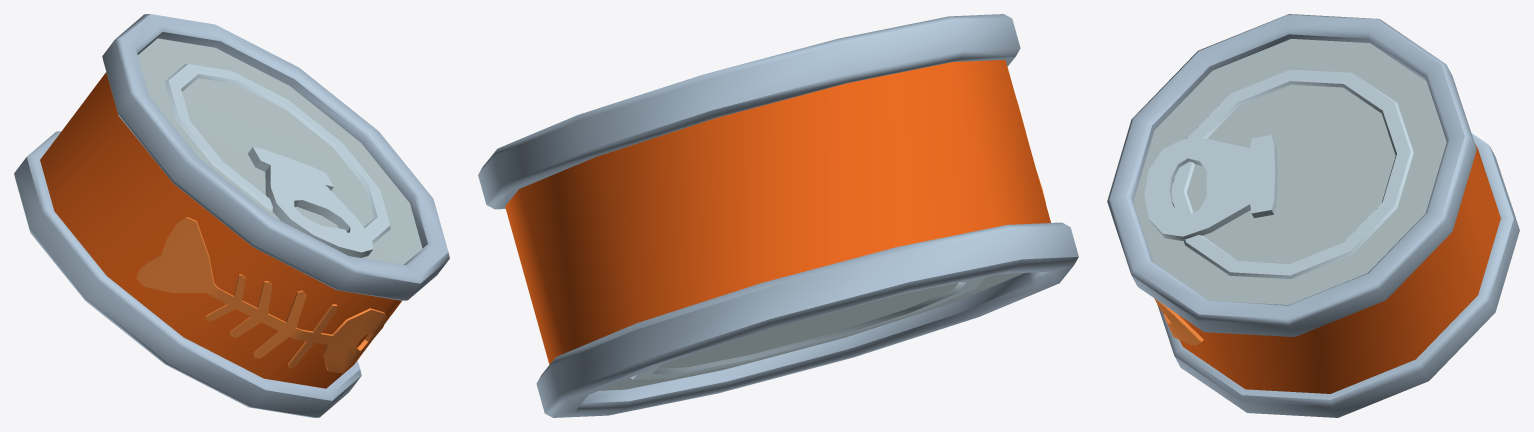
3 renders of one model, left to right at view 1: azimuth 30°, elevation 25°; view 2: azimuth 150°, elevation 25°; view 3: azimuth 270°, elevation 25°, orthographic. The views are drawn at different scales.
Parts seen in each view (by area): view 1: model_0.057; view 2: model_0.057; view 3: model_0.057.
Boxes of the visible parts, left/top/right/bottom form: model_0.057: left=14, top=14, right=449, bottom=417; model_0.057: left=478, top=14, right=1078, bottom=417; model_0.057: left=1107, top=14, right=1519, bottom=417.
Size of the model in its own units: 3.92 by 3.39 by 3.95.
